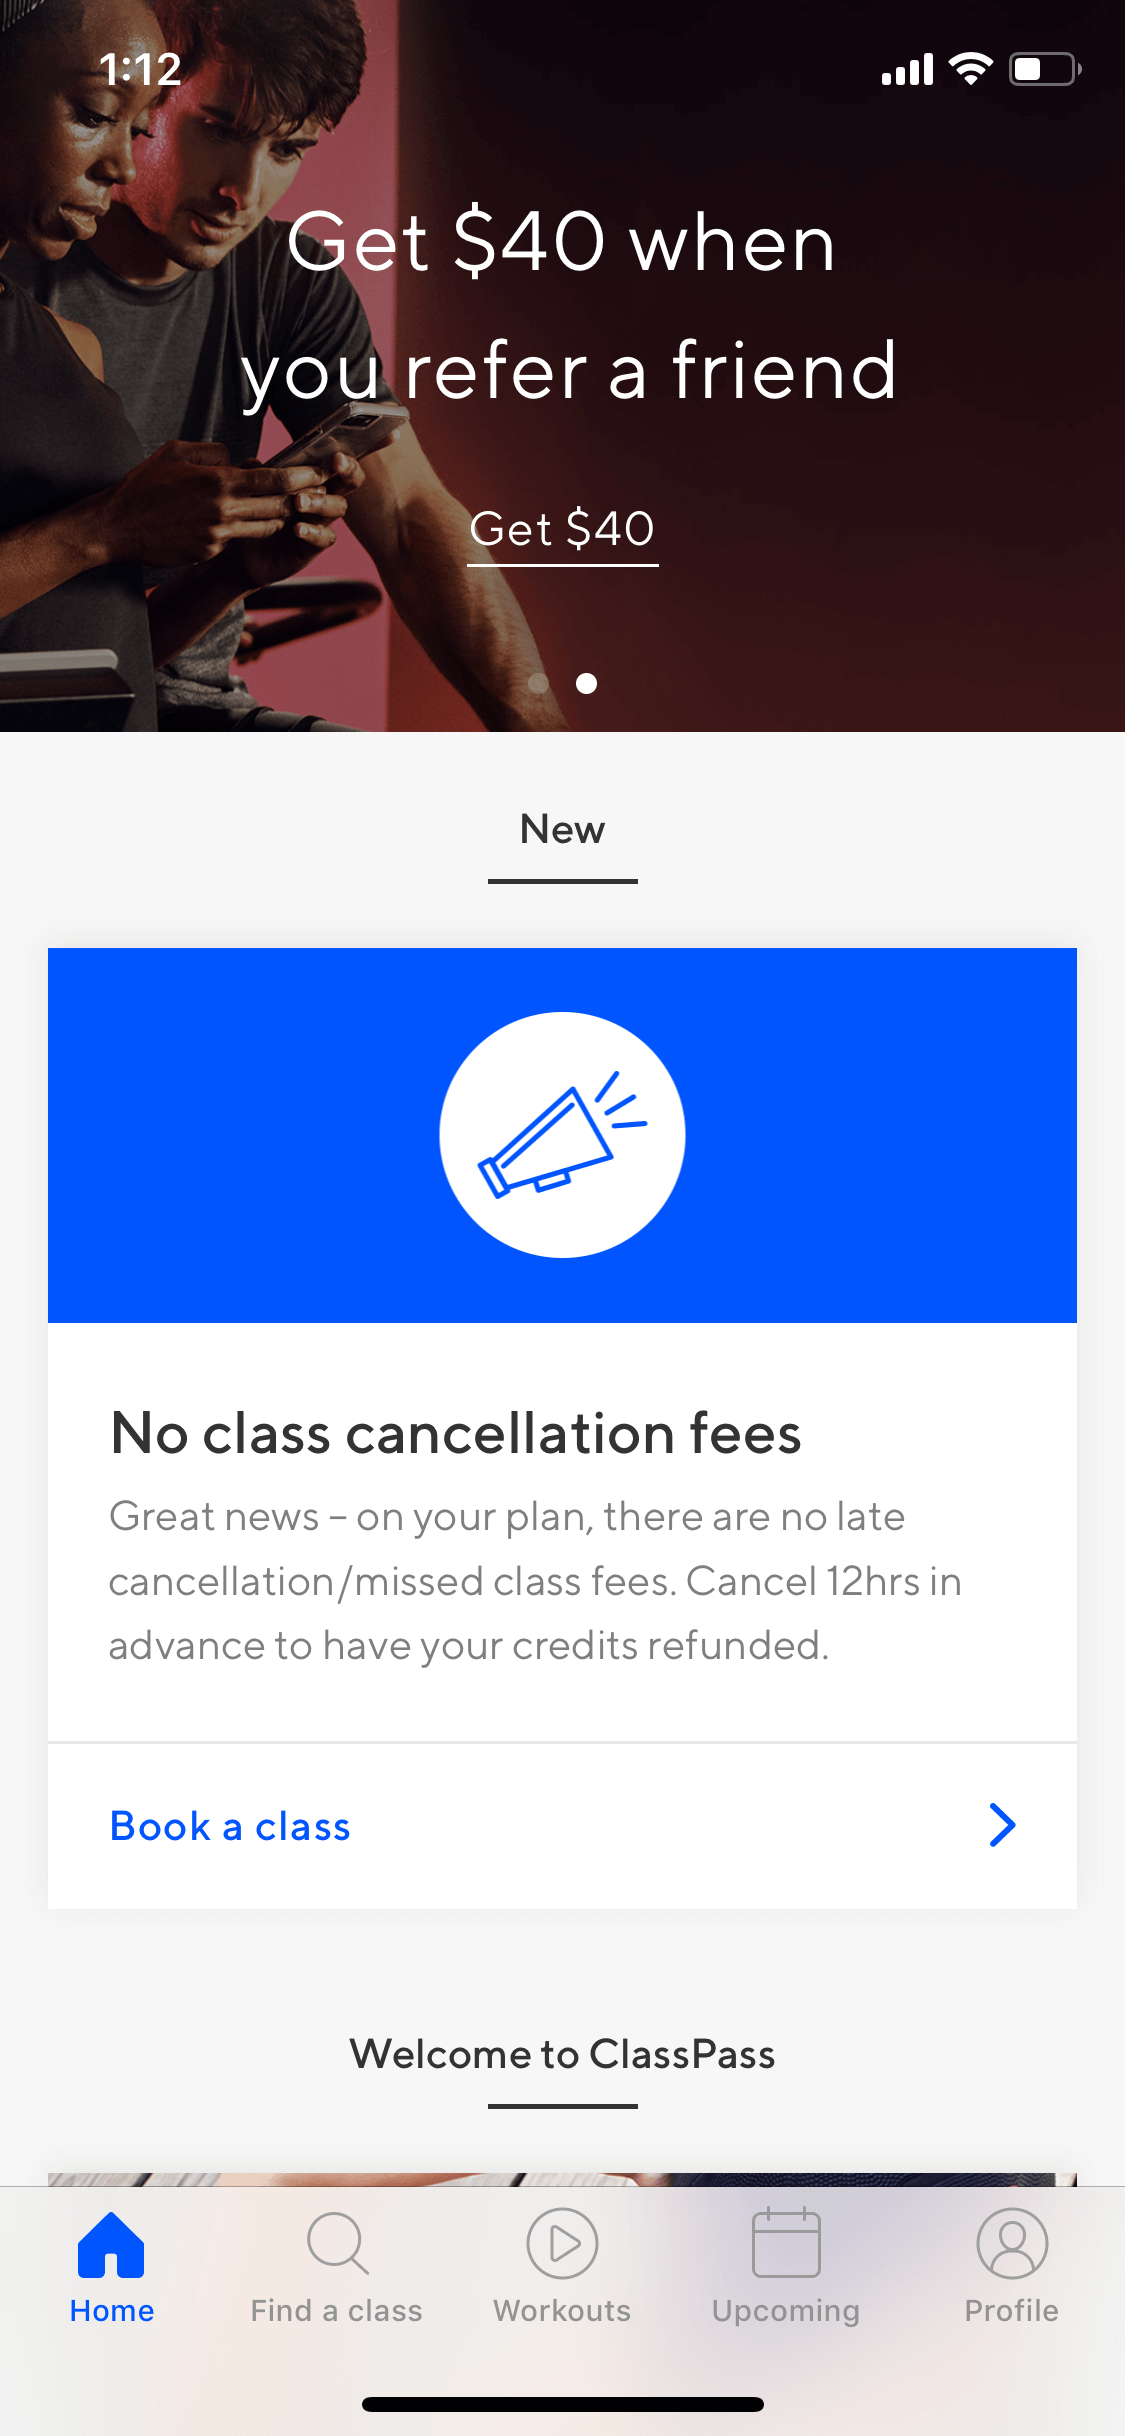Page Controls: (461, 645, 656, 712)
